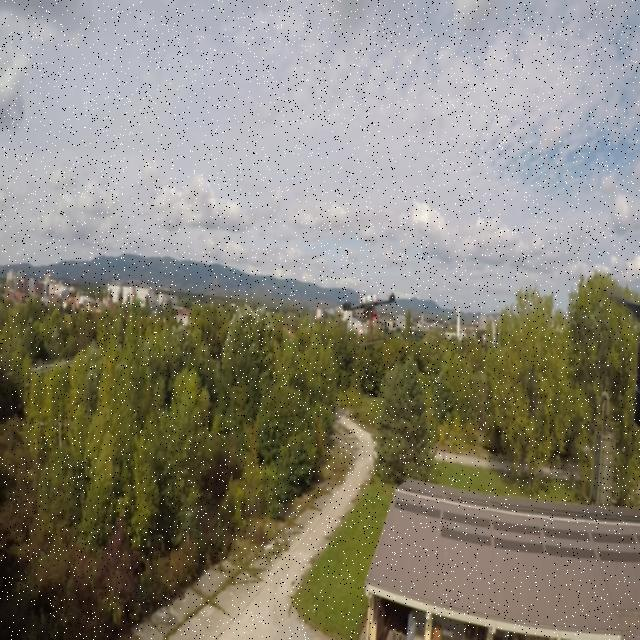UAV: (339, 289, 401, 352)
